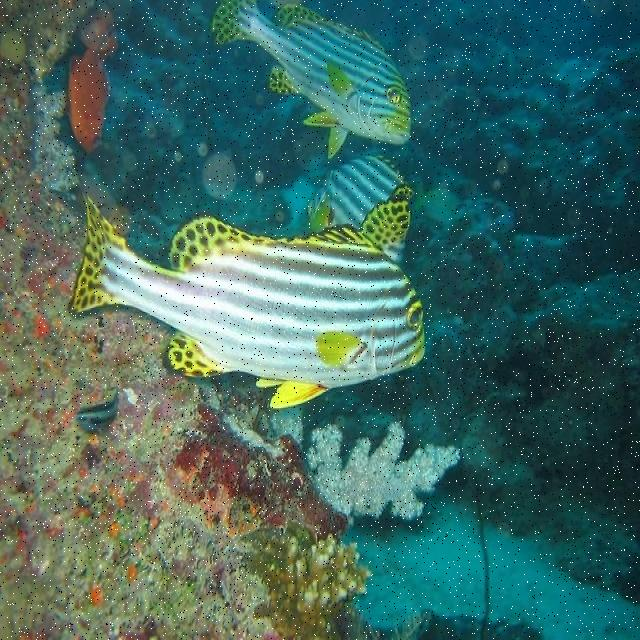fish: (69, 176, 425, 408), (211, 1, 411, 158), (305, 155, 414, 262), (68, 9, 117, 153), (75, 386, 118, 431)
reefs: (243, 520, 373, 637), (309, 423, 460, 520)
